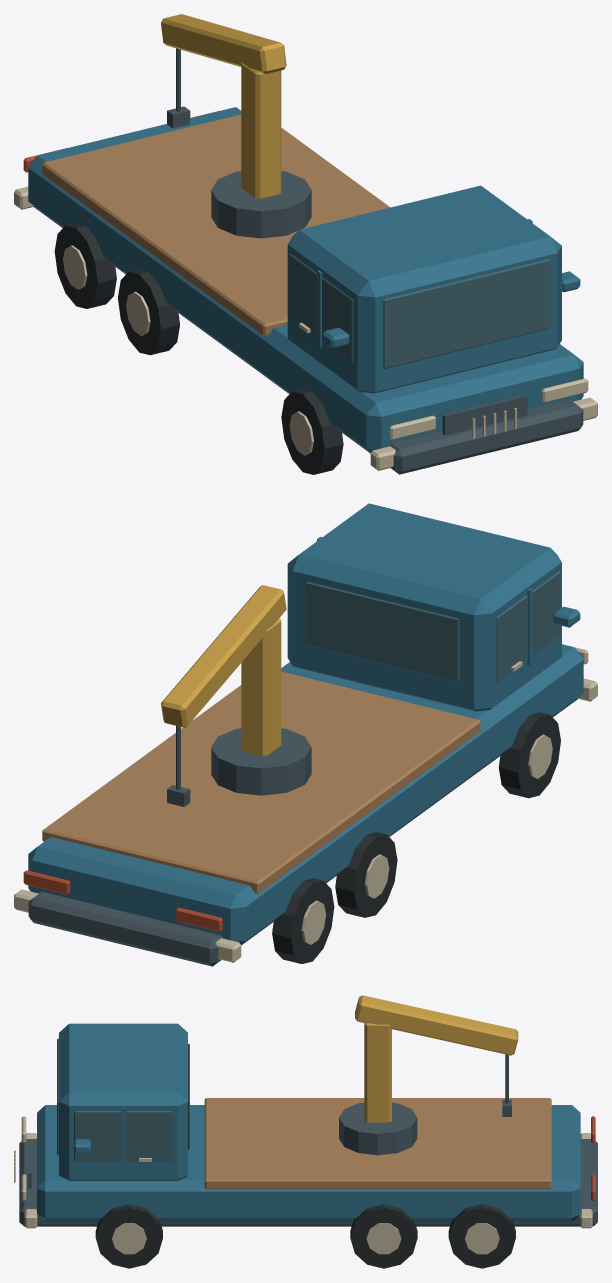
The model's file is vehicle_crane.glb.
The picture shows the model from 3 angles, top to bottom: view 1: azimuth 30°, elevation 25°; view 2: azimuth 150°, elevation 25°; view 3: azimuth 270°, elevation 25°; orthographic projection. The views are drawn at different scales.
Visible parts, largest first — view 1: vehicle_crane; view 2: vehicle_crane; view 3: vehicle_crane.
Boxes of the visible parts, box(x1,y1,x2,y2) form: vehicle_crane: box(14, 14, 597, 474); vehicle_crane: box(14, 503, 597, 966); vehicle_crane: box(14, 995, 597, 1268).
Size of the model in its own units: 2.87 by 3.18 by 7.47.
